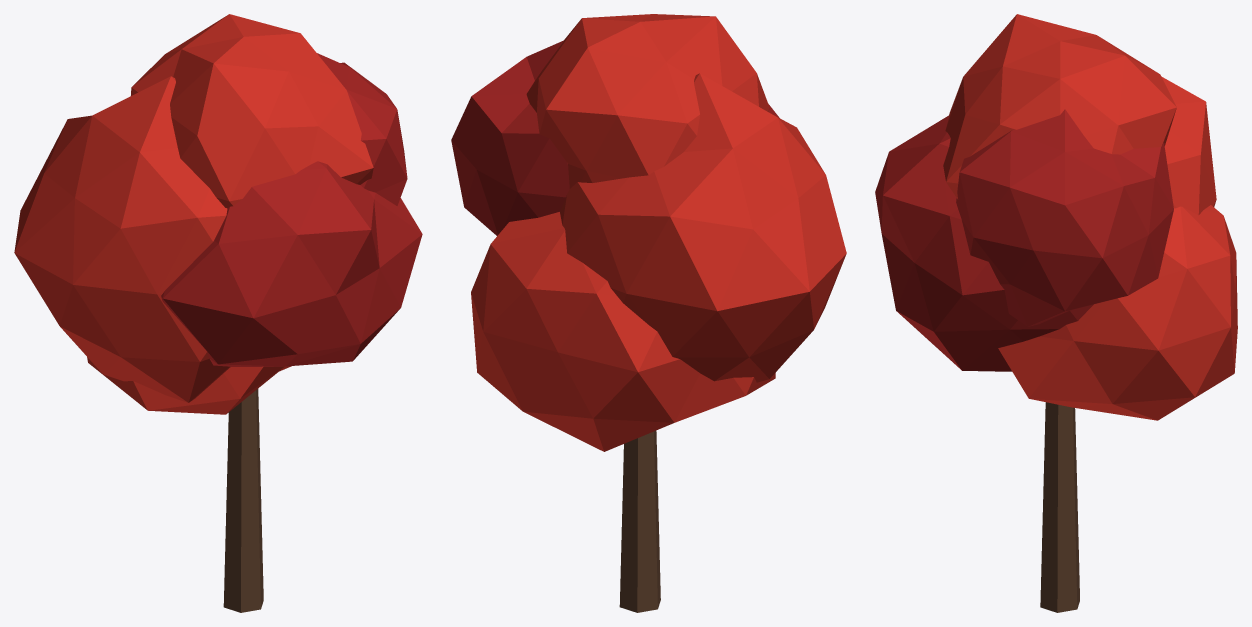
Rendered from tree_autumn_red.glb.
3 views of the same model, side by side, from view 1: azimuth 30°, elevation 25°; view 2: azimuth 150°, elevation 25°; view 3: azimuth 270°, elevation 25° (orthographic). The views are drawn at different scales.
Parts seen in each view (by area): view 1: tree_autumn_red; view 2: tree_autumn_red; view 3: tree_autumn_red.
Boxes of the visible parts, left/top/right/bottom form: tree_autumn_red: left=14, top=14, right=422, bottom=612; tree_autumn_red: left=451, top=14, right=846, bottom=612; tree_autumn_red: left=875, top=14, right=1237, bottom=612.
Bounding box in the file's own units: 5.37 × 8.11 × 4.72.
